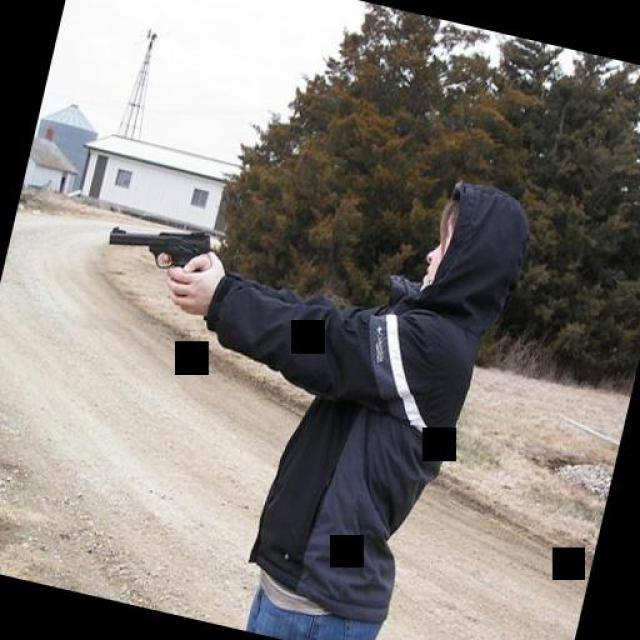gun: (99, 206, 216, 286)
